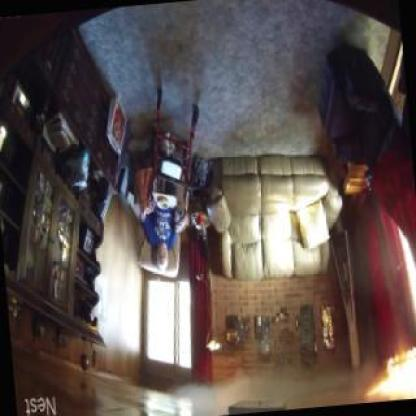Fire: (370, 349, 415, 403)
